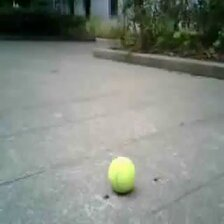tennis: (108, 157, 138, 192)
